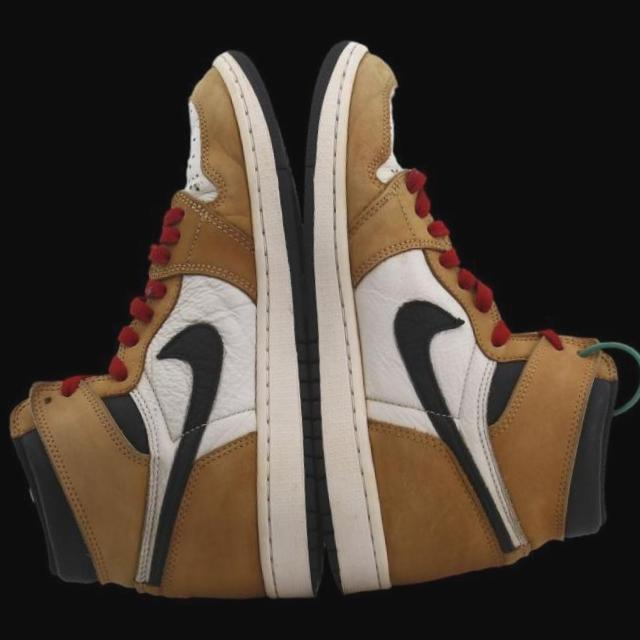nike_original_jordan: (284, 19, 634, 605), (0, 36, 329, 635)
